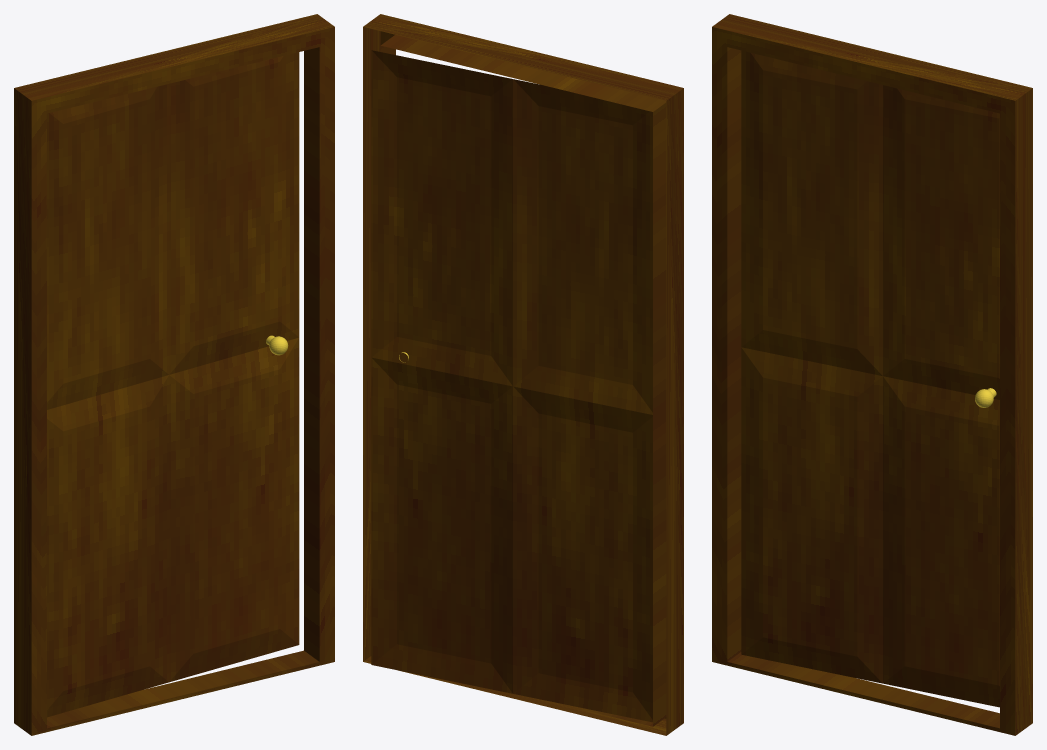
Rendered from doorOpenable.glb.
The picture shows the model from 3 angles, left to right: view 1: azimuth 30°, elevation 25°; view 2: azimuth 150°, elevation 25°; view 3: azimuth 330°, elevation 25°; orthographic projection.
Visible parts, largest first — view 1: Cylinder.001, Cylinder; view 2: Cylinder.001, Cylinder; view 3: Cylinder.001, Cylinder.
Boxes of the visible parts, box(x1,y1,x2,y2) form: Cylinder.001: box(47, 52, 299, 717); Cylinder: box(14, 14, 334, 735); Cylinder.001: box(371, 50, 652, 722); Cylinder: box(363, 14, 683, 735); Cylinder.001: box(741, 50, 999, 707); Cylinder: box(712, 14, 1032, 735).
Bounding box in the file's own units: 2 × 4 × 0.2558.
Materials: 2 (1 with a texture image).
